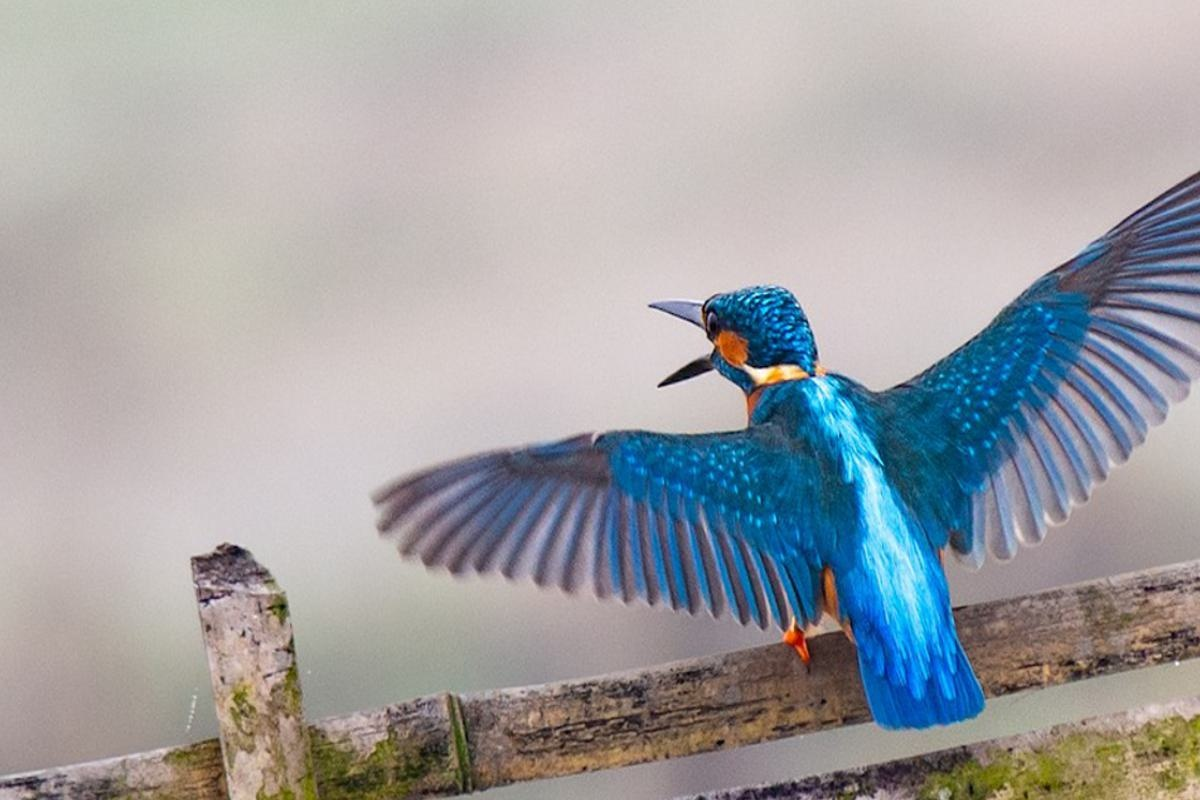kingfisher: (358, 179, 1200, 741)
